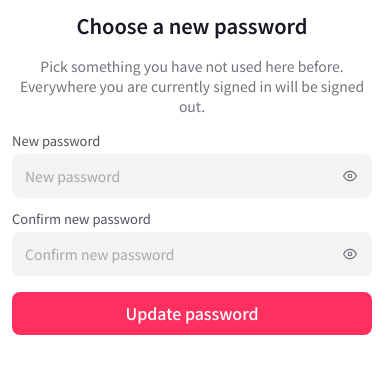
Test: the password reset page › keeps the form up for a failure the visitor can retry
Type "correcthorse" into the password field labelled "New password" at (192, 176), box [12,154,372,198]
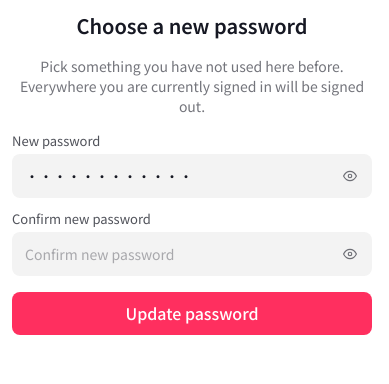
Type "correcthorse" into the password field labelled "Confirm new password" at (192, 254), box [12,232,372,276]
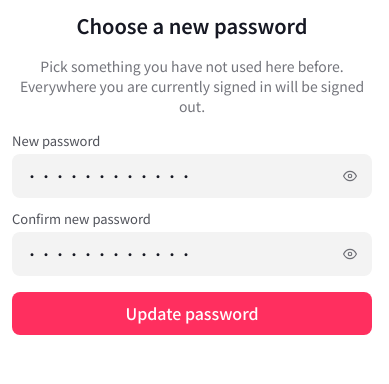
Submit the form, box [12,132,372,335]
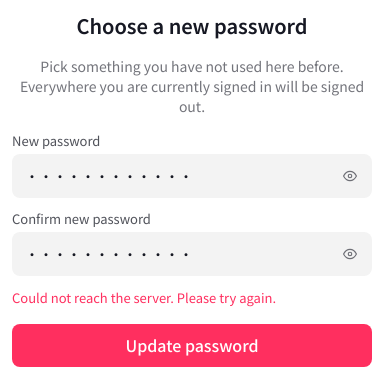
Expected: the form is shown, [12,132,372,367]
Expected: the text "Could not reach the server. Please try again." is shown, [12,288,276,307]
